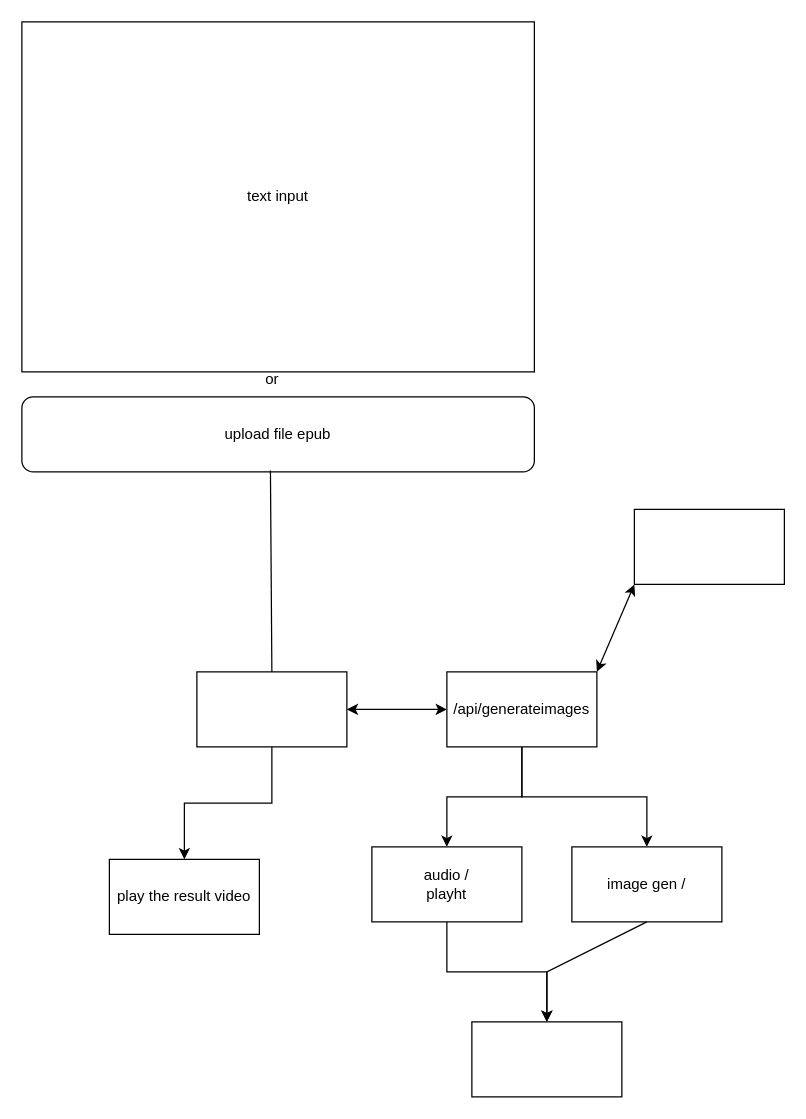
Image size: 806x1119. Some labels were removed from this diagram. The centre of each missing label's shape, as x and y in pixels:
"concise / gemini" goes at [708,546].
"ffmpeg combine audio, image and sub" goes at [546,1059].
"loading" goes at [271,709].
